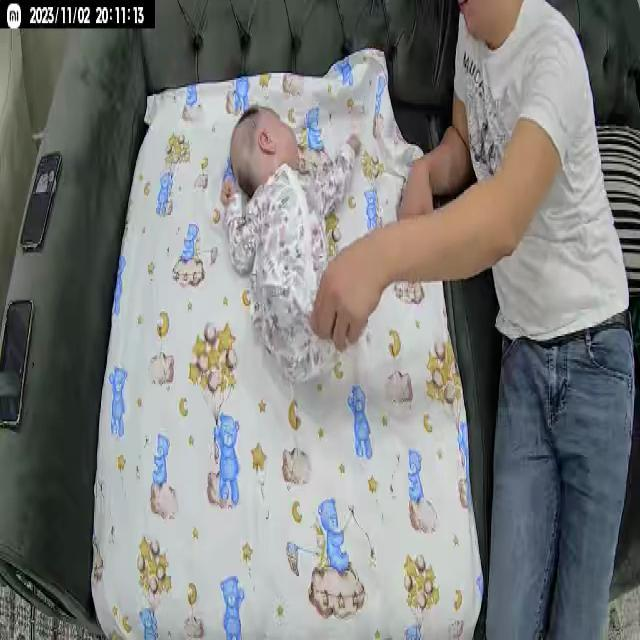baby: (218, 101, 360, 392)
